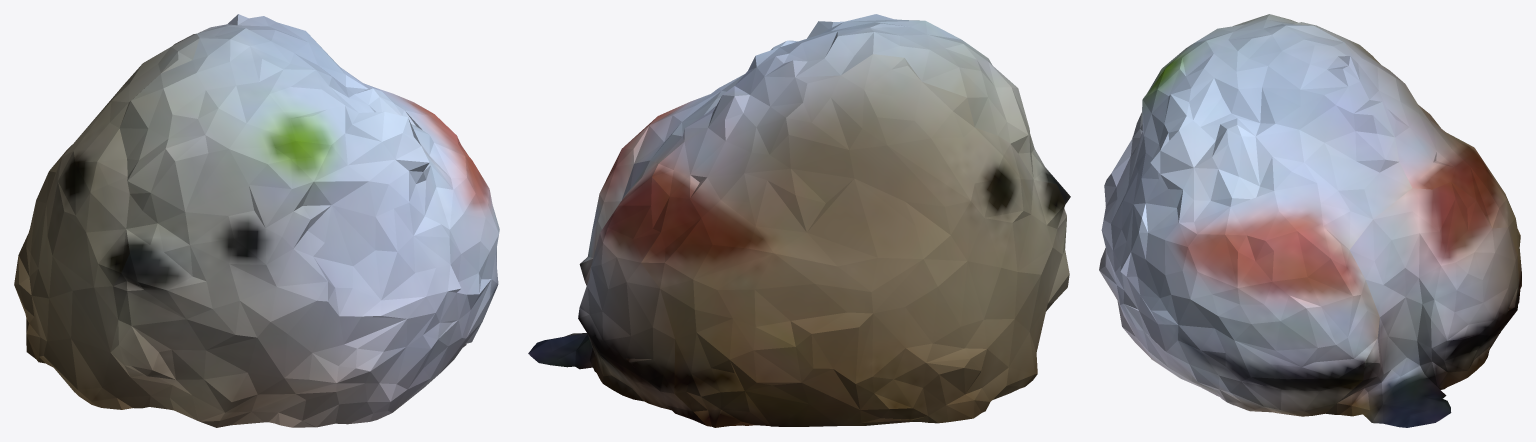
The model's file is longtail c.glb.
3 renders of one model, left to right at view 1: azimuth 30°, elevation 25°; view 2: azimuth 150°, elevation 25°; view 3: azimuth 270°, elevation 25°, orthographic. The views are drawn at different scales.
Parts seen in each view (by area): view 1: e31a4d14-45ae-4f0e-9c35-f3d49197f812; view 2: e31a4d14-45ae-4f0e-9c35-f3d49197f812; view 3: e31a4d14-45ae-4f0e-9c35-f3d49197f812.
Part boxes in pixels (<box>): e31a4d14-45ae-4f0e-9c35-f3d49197f812: <box>14,14,499,427</box>; e31a4d14-45ae-4f0e-9c35-f3d49197f812: <box>528,14,1070,427</box>; e31a4d14-45ae-4f0e-9c35-f3d49197f812: <box>1099,14,1521,427</box>.
Bounding box in the file's own units: 0.4524 × 0.3388 × 0.4371.
1 material, 1 textured.
